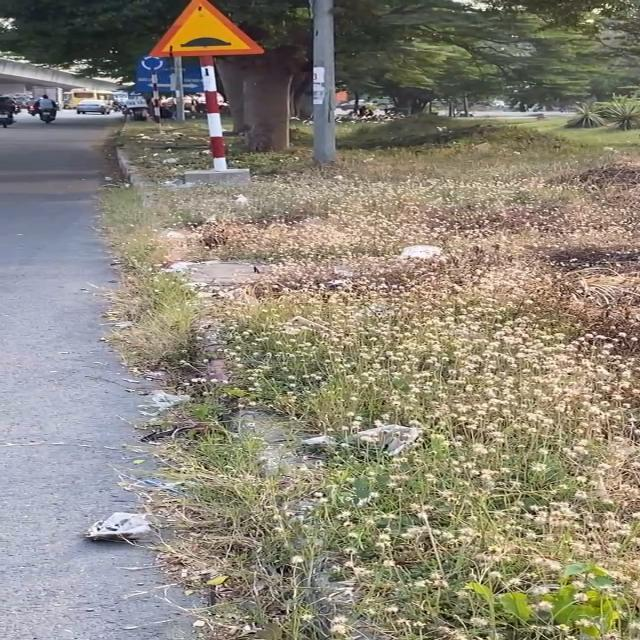221-duong-go-ghe: (148, 0, 265, 56)
303-noi-giao-nhau-chay-theo-vong-xuyen: (138, 54, 166, 72)
